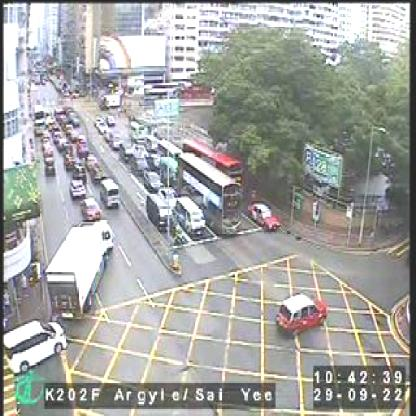Bus: (174, 151, 242, 234), (180, 135, 242, 187)
Car: (1, 316, 74, 375), (275, 290, 332, 342), (170, 196, 206, 236), (144, 192, 172, 234), (247, 198, 279, 227), (98, 177, 126, 210), (155, 184, 182, 215), (79, 197, 103, 222), (86, 149, 104, 182), (127, 153, 151, 175), (118, 139, 138, 163), (142, 173, 161, 196), (62, 106, 83, 123), (127, 118, 143, 140), (69, 178, 83, 203), (44, 154, 56, 180), (70, 165, 87, 182), (63, 147, 72, 170), (76, 133, 84, 156), (104, 113, 116, 128), (111, 132, 122, 147), (70, 125, 78, 144), (56, 136, 68, 148), (42, 142, 52, 156), (40, 133, 51, 144), (104, 128, 113, 140)
Minibus: (160, 153, 178, 187)
Truck: (40, 219, 112, 324)
